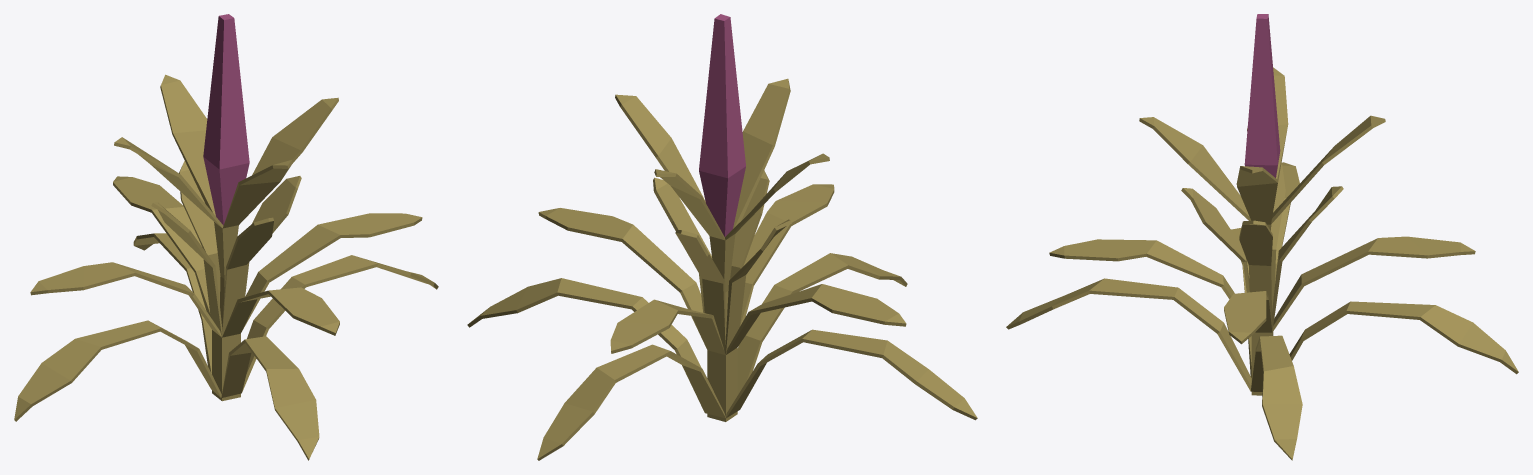
Rendered from Plant_5.gltf.
3 renders of one model, left to right at view 1: azimuth 30°, elevation 25°; view 2: azimuth 150°, elevation 25°; view 3: azimuth 270°, elevation 25°, orthographic. The views are drawn at different scales.
Parts seen in each view (by area): view 1: Plant_5; view 2: Plant_5; view 3: Plant_5.
Part boxes in pixels (x1=…): Plant_5: x1=14, y1=14, x2=438, y2=460; Plant_5: x1=467, y1=14, x2=977, y2=460; Plant_5: x1=1006, y1=14, x2=1518, y2=460.
Bounding box in the file's own units: 1.74 × 1.39 × 1.72.
